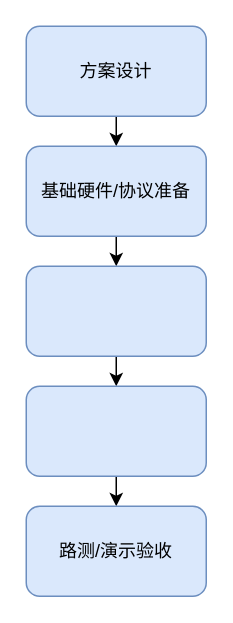
Some shapes in this 233 by 623 pixel diagram are drawn without their labels. Here are the shapes that lost their labels. From the top down, the centre of each, then its label:
(x=115, y=310): 硬件装车/数据采集
(x=115, y=430): 离线调试
